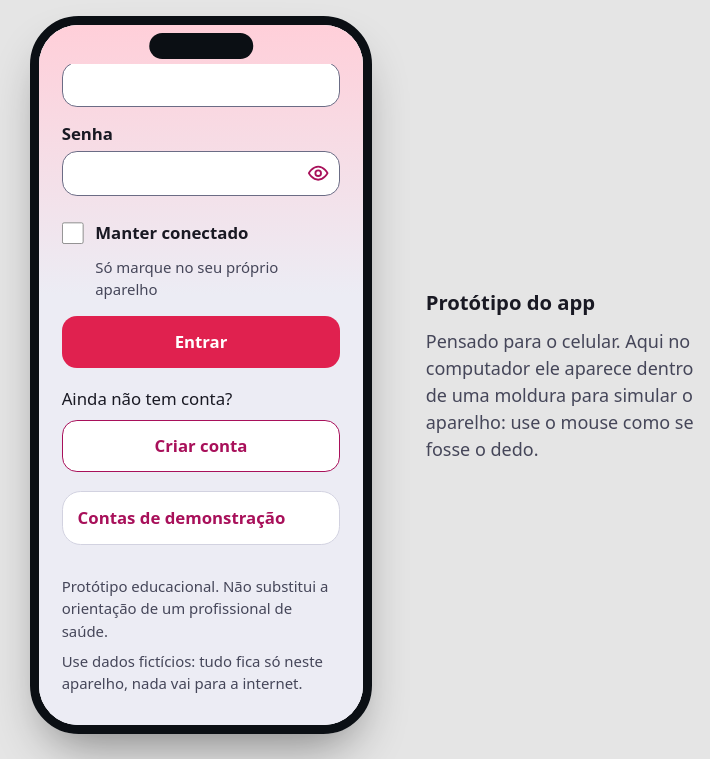
Test: login › o botão "Usar" das contas de demonstração preenche e-mail e senha
(page scrolled)
Click the heading "Contas de demonstração". click: (182, 518)
box: 78,506 -> 285,529
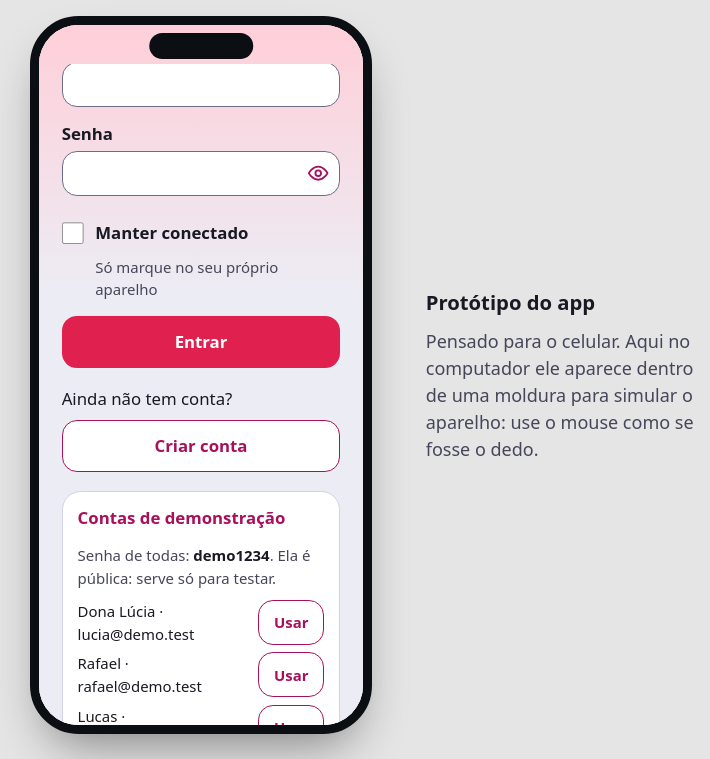
Click the button with aria-label "Usar conta de Dona Lúcia". click: (291, 623)
box: 258,600 -> 324,645
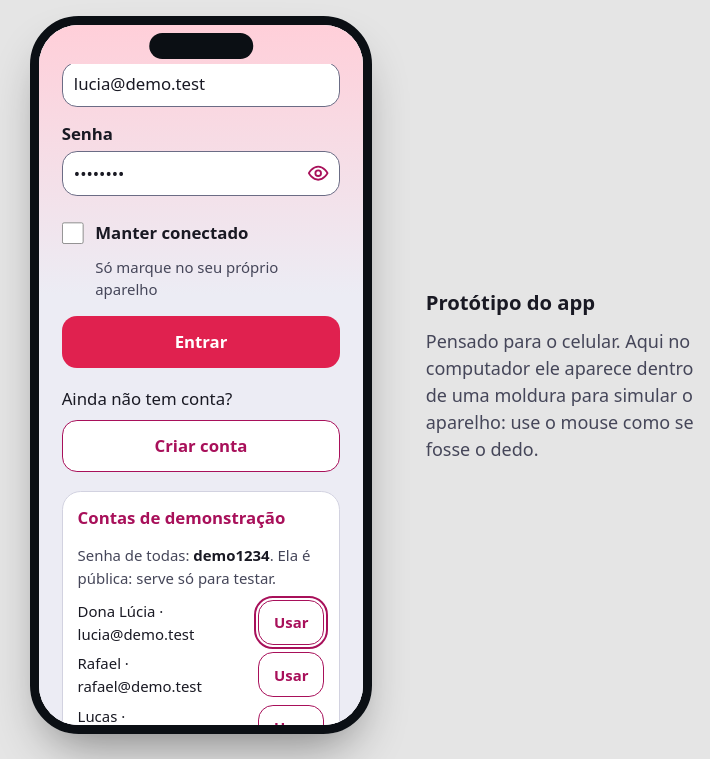
Result: the field labelled "E-mail" holds "lucia@demo.test" at 62,64 -> 340,107
Result: the password field labelled "Senha" holds "demo1234" at 62,151 -> 340,196
